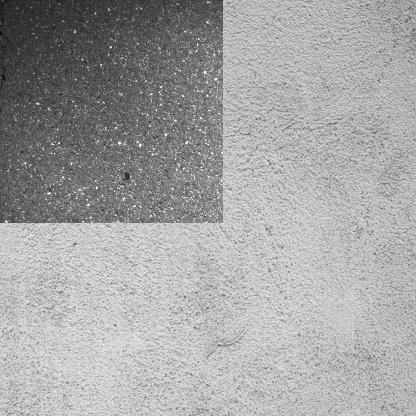Cracks: (0, 0, 11, 206)
